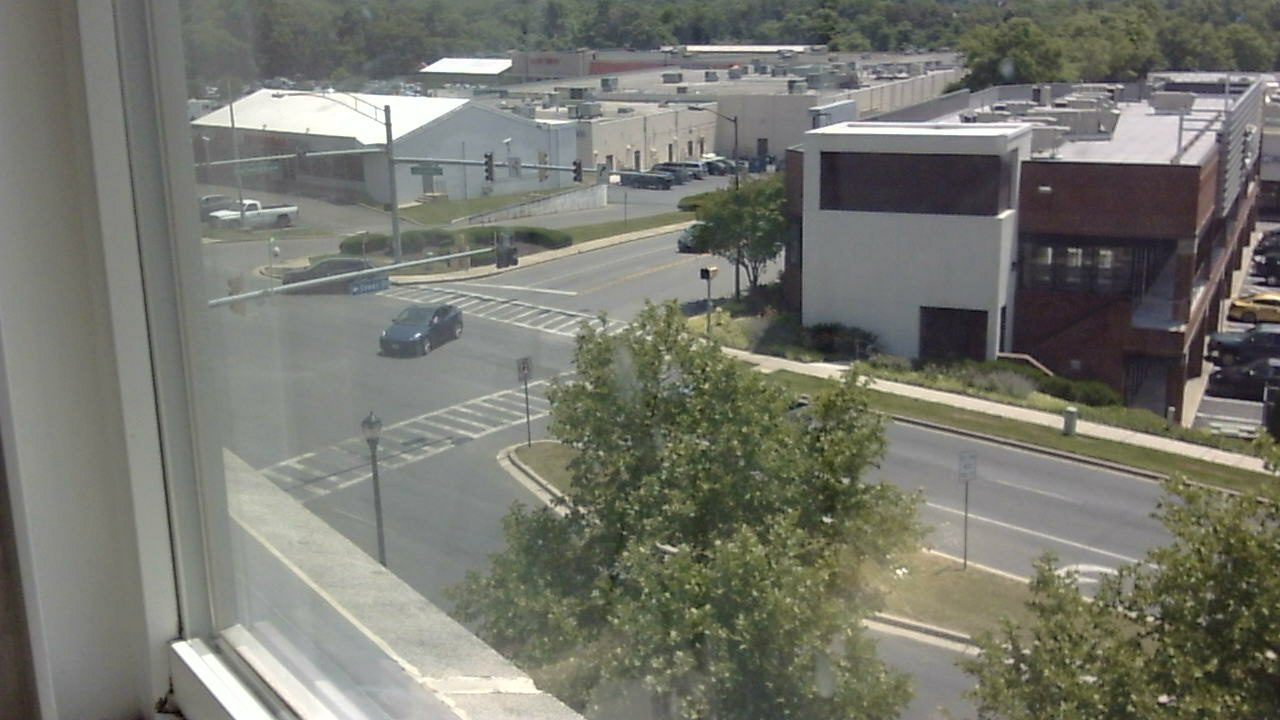Car: (377, 303, 474, 366), (287, 260, 387, 302)
